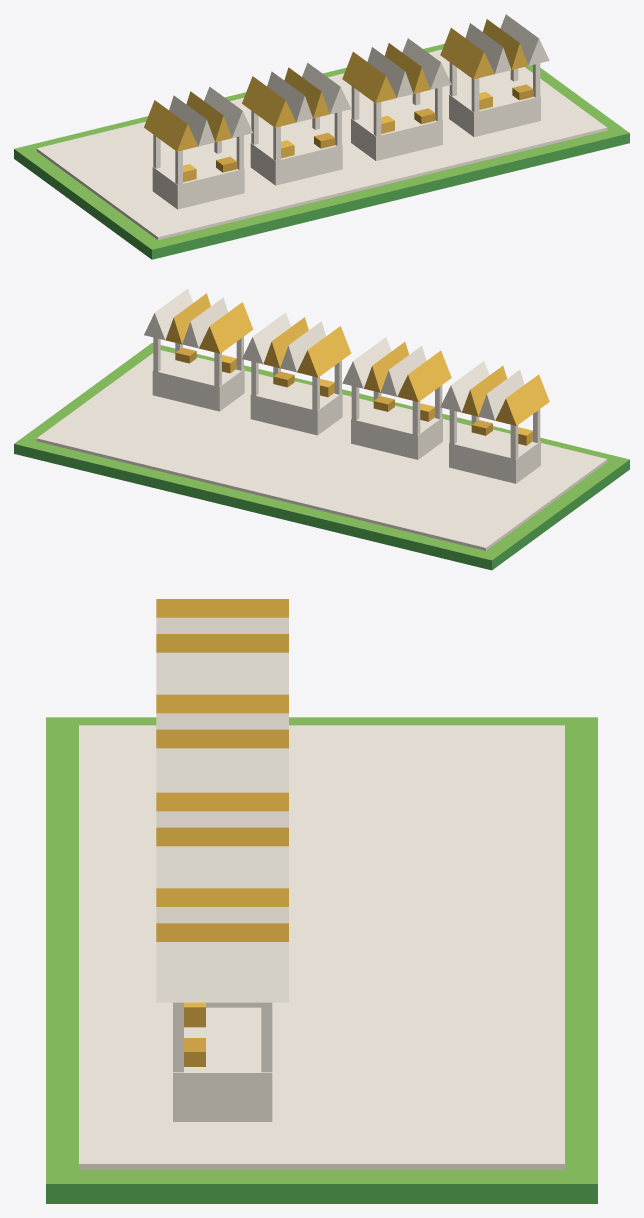
The model's file is skill_decimal_market_t2.glb.
3 renders of one model, top to bottom at view 1: azimuth 30°, elevation 25°; view 2: azimuth 150°, elevation 25°; view 3: azimuth 270°, elevation 25°, orthographic. The views are drawn at different scales.
Parts seen in each view (by area): view 1: plaza, base, stall_3, stall_1, stall_4, stall_2; view 2: plaza, base, stall_2, stall_1, stall_3, stall_4; view 3: plaza, base, stall_4, stall_3, stall_2, stall_1.
Part boxes in pixels (<box>): plaza: <box>36,49,607,239</box>; base: <box>14,44,629,259</box>; stall_3: <box>342,38,451,160</box>; stall_1: <box>144,86,252,209</box>; stall_4: <box>440,14,549,136</box>; stall_2: <box>242,62,350,185</box>; plaza: <box>36,350,607,550</box>; base: <box>14,343,629,570</box>; stall_2: <box>342,337,451,459</box>; stall_1: <box>440,361,549,483</box>; stall_3: <box>242,312,351,435</box>; stall_4: <box>144,288,253,411</box>; plaza: <box>79,725,564,1169</box>; base: <box>46,717,597,1203</box>; stall_4: <box>156,888,288,1121</box>; stall_3: <box>156,792,288,1007</box>; stall_2: <box>156,694,288,792</box>; stall_1: <box>156,599,288,694</box>.
Bounding box in the file's own units: 2 × 0.4 × 1.
